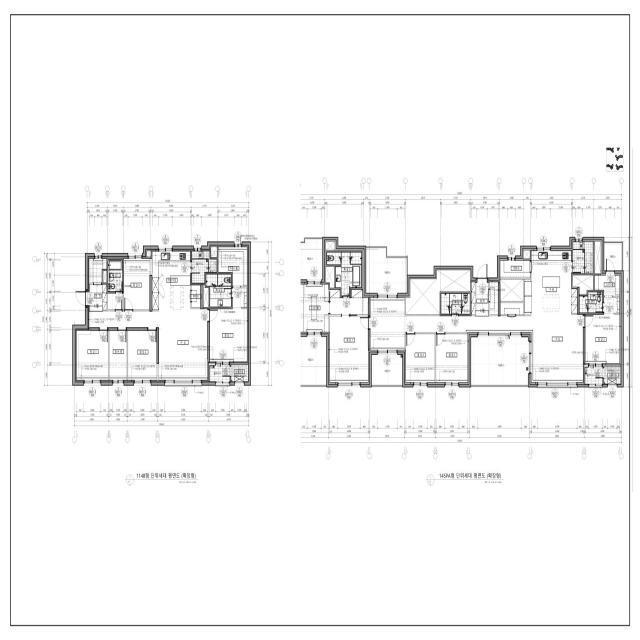space_balconi: (471, 337, 528, 384), (366, 249, 407, 293), (372, 355, 403, 384), (573, 242, 593, 273), (604, 244, 621, 270), (210, 366, 230, 382), (585, 368, 603, 384)
space_bedroom: (210, 287, 248, 362), (330, 316, 368, 382), (585, 297, 620, 363), (76, 331, 108, 380), (436, 334, 468, 382), (128, 331, 157, 380), (406, 334, 435, 382), (124, 259, 150, 310)
space_dressroom: (300, 284, 329, 332), (218, 247, 248, 286), (595, 275, 620, 296)
space_front: (471, 282, 489, 316), (87, 284, 107, 311)
space_kitchen: (525, 251, 577, 315), (152, 251, 190, 310)
space_living_room: (370, 298, 583, 382), (88, 309, 208, 380)
space_other: (406, 270, 470, 314), (330, 290, 368, 314), (109, 331, 127, 380), (500, 261, 530, 278), (500, 279, 523, 301), (88, 259, 107, 283), (573, 275, 593, 294), (500, 303, 523, 315), (490, 282, 498, 314), (108, 293, 123, 310), (595, 242, 601, 274), (192, 285, 200, 307), (326, 267, 334, 288), (203, 285, 209, 307), (326, 242, 335, 250), (211, 246, 217, 257), (524, 250, 530, 259), (103, 271, 107, 283), (147, 251, 151, 257)
space_outdoor_room: (604, 366, 621, 384), (231, 365, 248, 382)
space_toilet: (327, 252, 361, 296), (206, 274, 231, 307), (192, 251, 217, 283), (441, 294, 470, 314), (580, 292, 603, 313), (108, 260, 122, 291)
